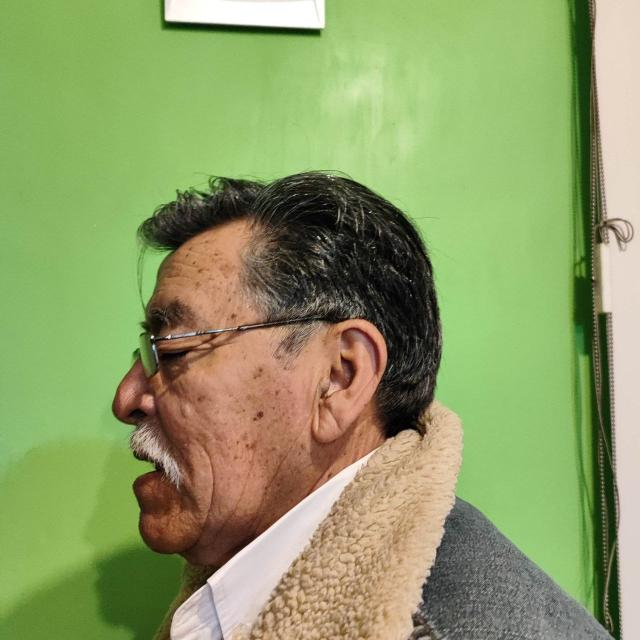ear: (312, 320, 386, 440)
